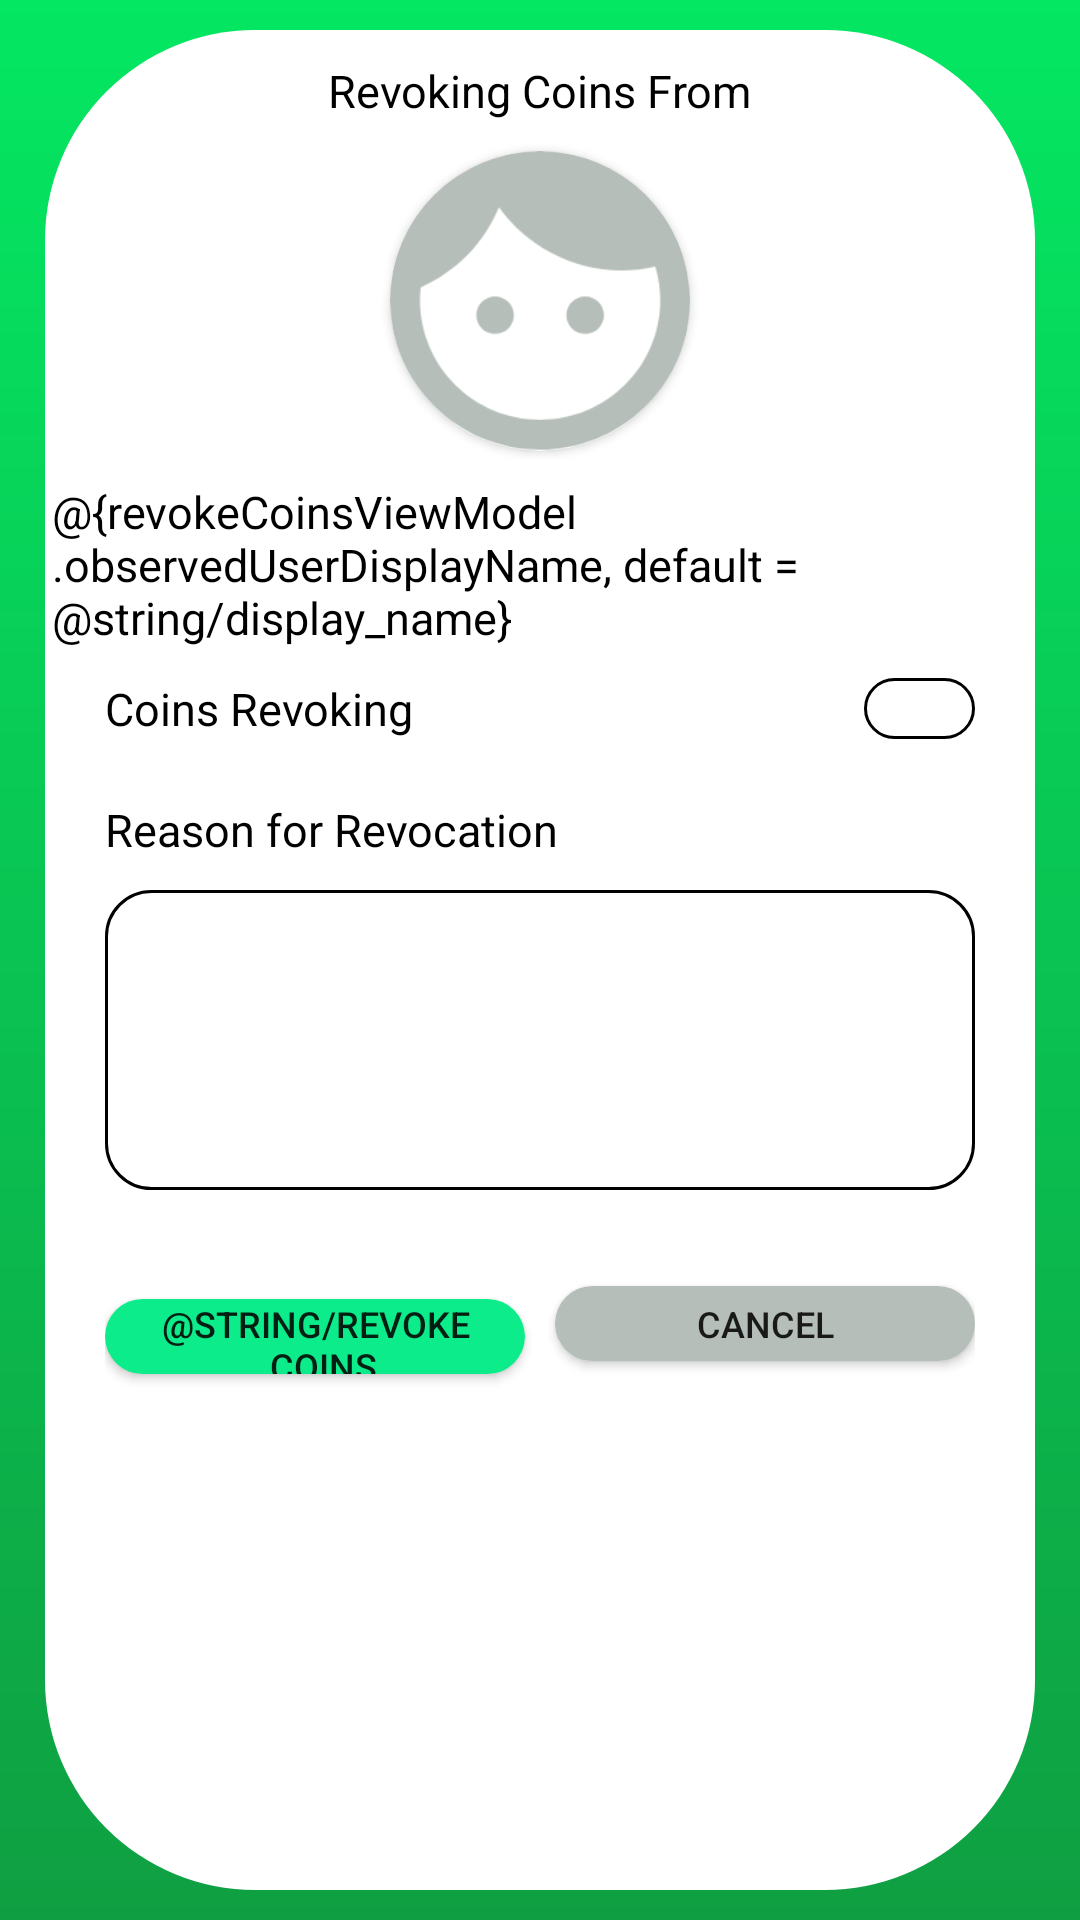

Screen size 1080 x 1920. Icon name, then its box in pixels as (left=x1, top=y1, right=x2, bottom=y2):
User profile picture: (left=390, top=151, right=690, bottom=451)
